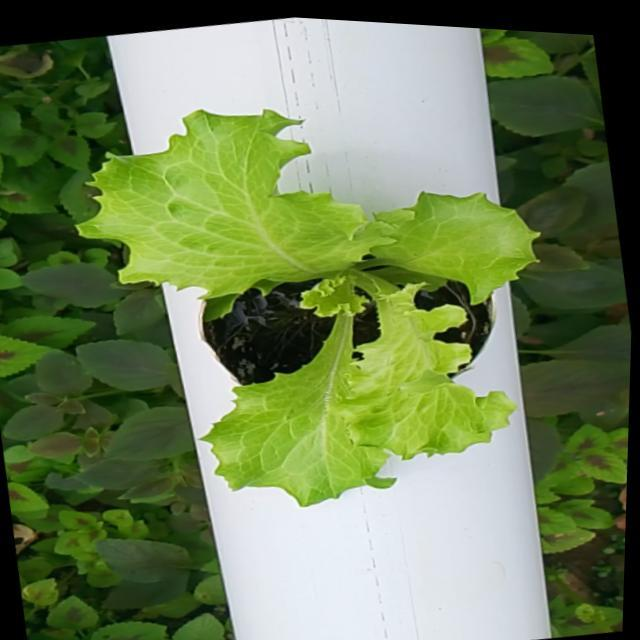Baby: (82, 111, 543, 508)
